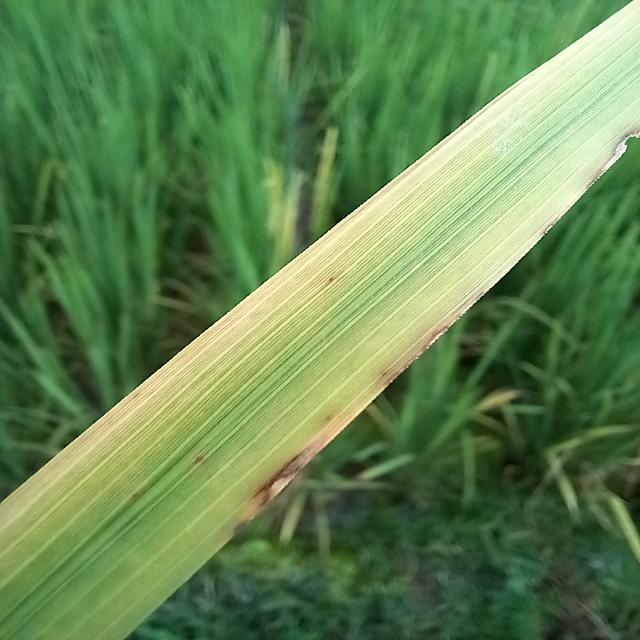Leaf_Blast: (247, 427, 329, 517), (421, 320, 457, 351)
